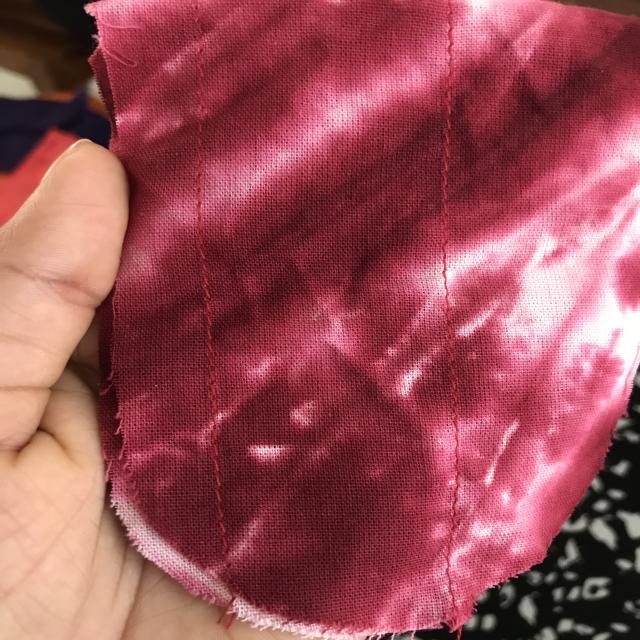good: (191, 283, 230, 334), (439, 259, 455, 308)
